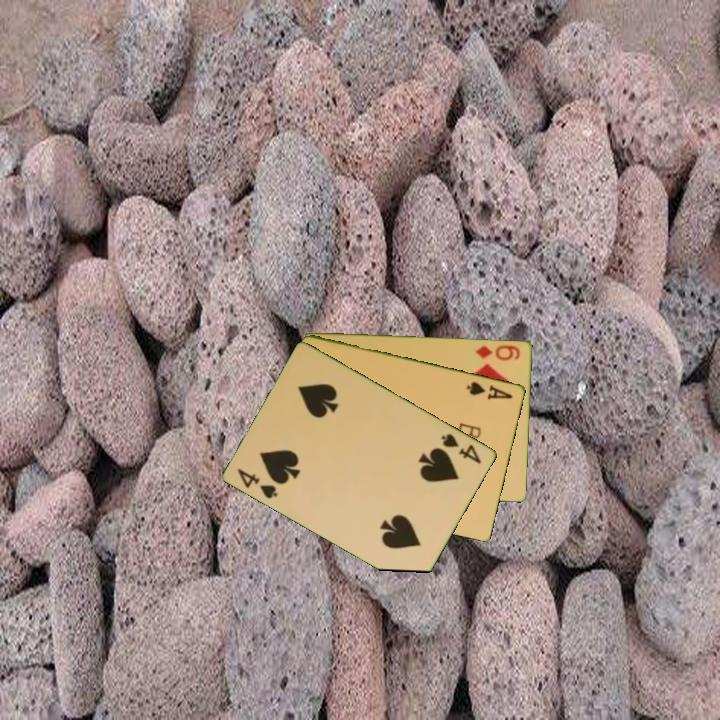4s: (438, 430, 485, 467), (234, 465, 281, 502)
6d: (472, 341, 523, 363)
As: (463, 378, 516, 403)
